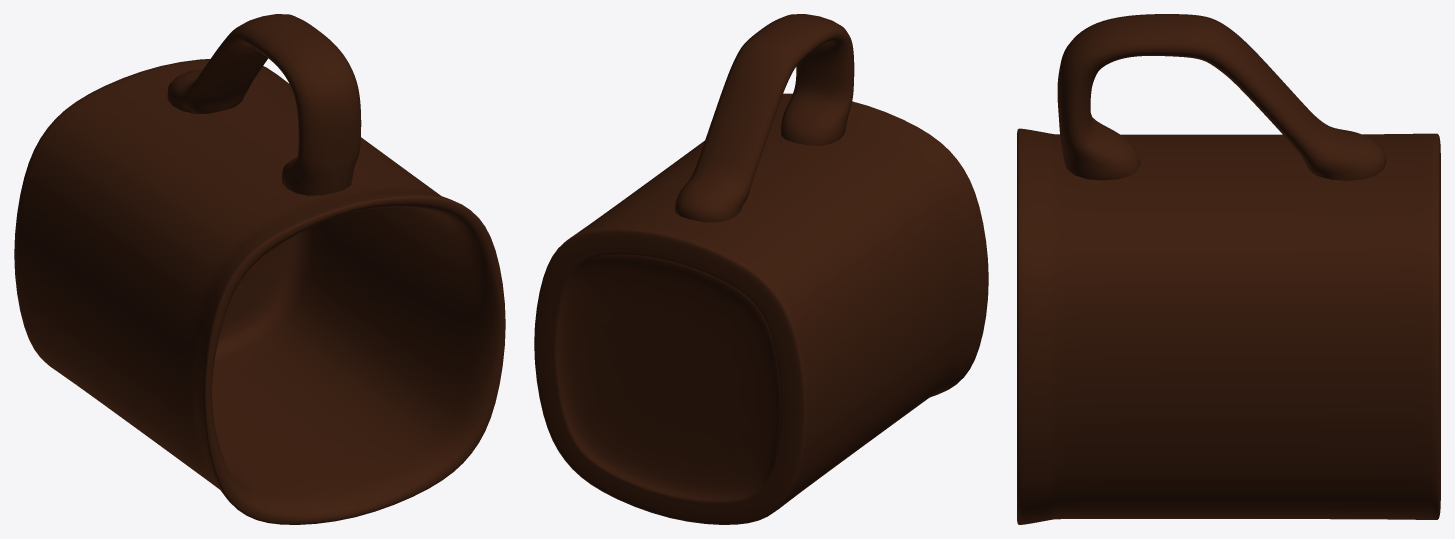
The picture shows the model from 3 angles, left to right: view 1: azimuth 30°, elevation 25°; view 2: azimuth 150°, elevation 25°; view 3: azimuth 270°, elevation 25°; orthographic projection. The views are drawn at different scales.
Bounding box in the file's own units: 0.4869 × 0.6786 × 0.55.
